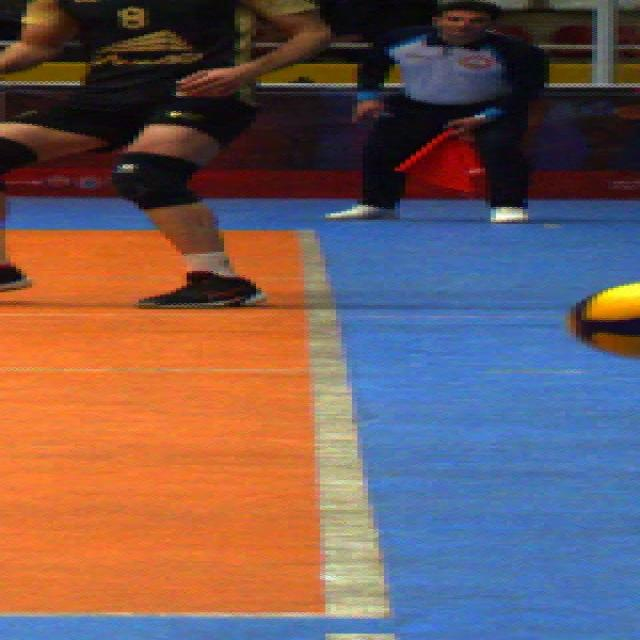Volleyball: (573, 280, 640, 358)
